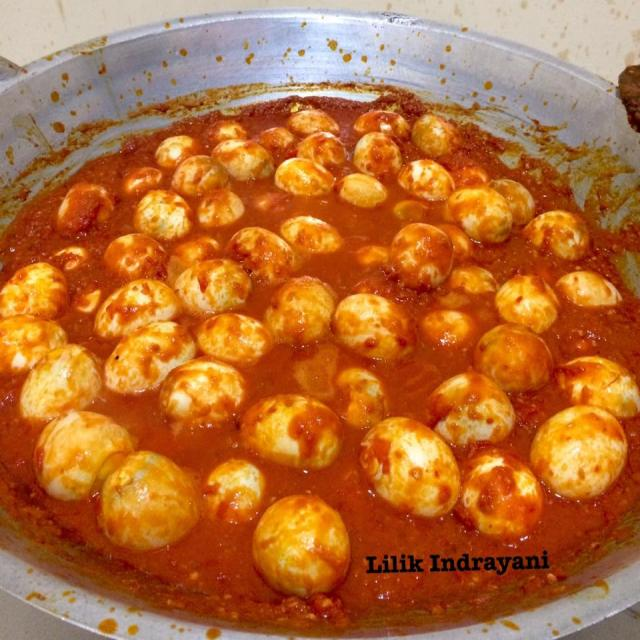telur balado: (0, 101, 640, 594)
